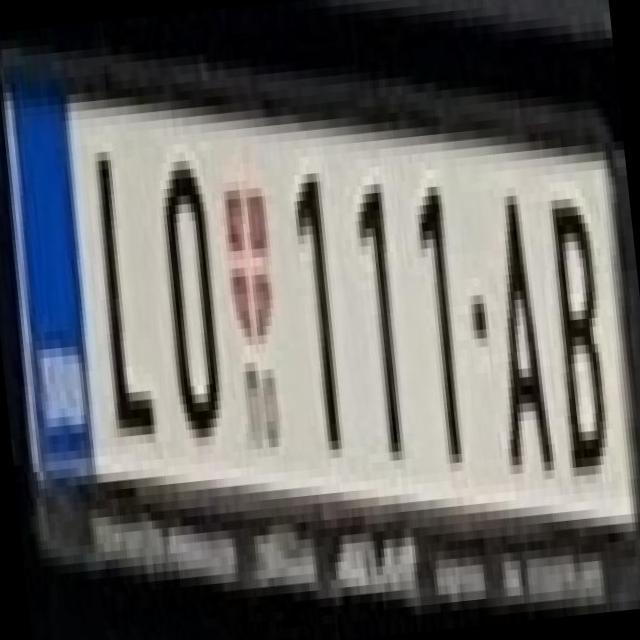0: (137, 132, 236, 432)
1: (256, 142, 380, 462), (313, 138, 420, 456), (385, 142, 477, 458)
A: (459, 160, 549, 458)
B: (523, 169, 625, 461)
L: (62, 113, 170, 431)
